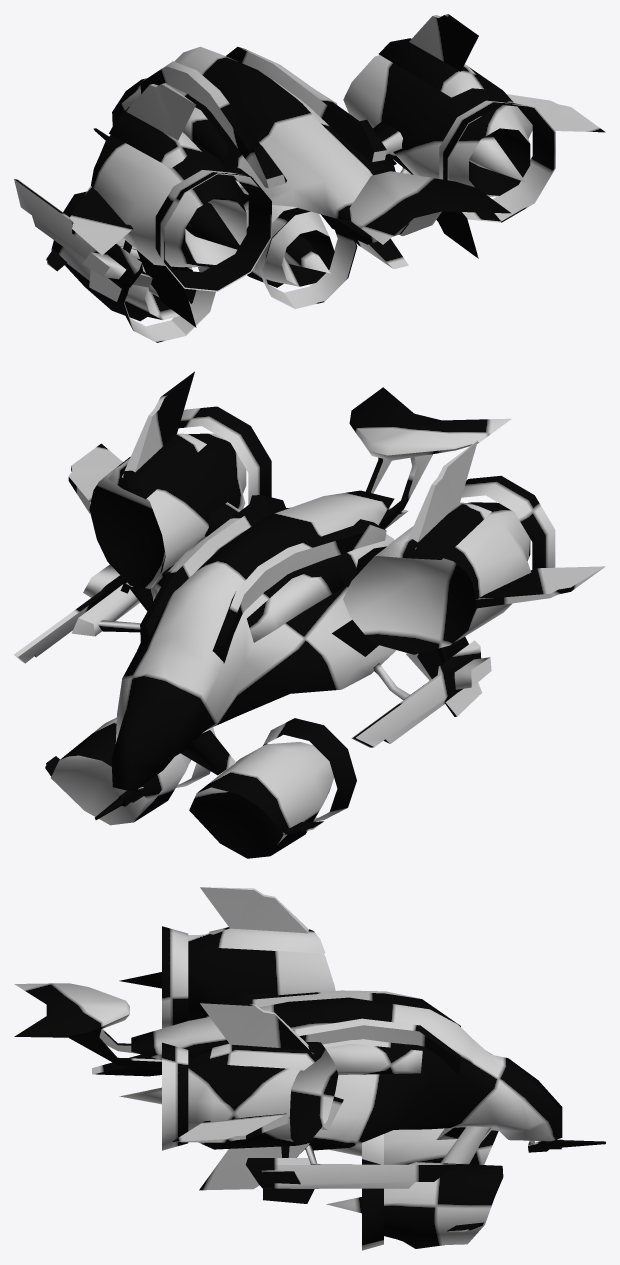
Rendered from streunerr.obj.
3 views of the same model, one above another, from view 1: azimuth 30°, elevation 25°; view 2: azimuth 150°, elevation 25°; view 3: azimuth 270°, elevation 25° (orthographic). The views are drawn at different scales.
Visible parts, largest first — view 1: streunerr; view 2: streunerr; view 3: streunerr.
Part boxes in pixels (x1,y1,x2,y2): streunerr: [14, 14, 605, 342]; streunerr: [14, 371, 605, 858]; streunerr: [14, 887, 605, 1250].
Size of the model in its own units: 98.4 by 61.24 by 119.
Materials: 1 (1 with a texture image).
